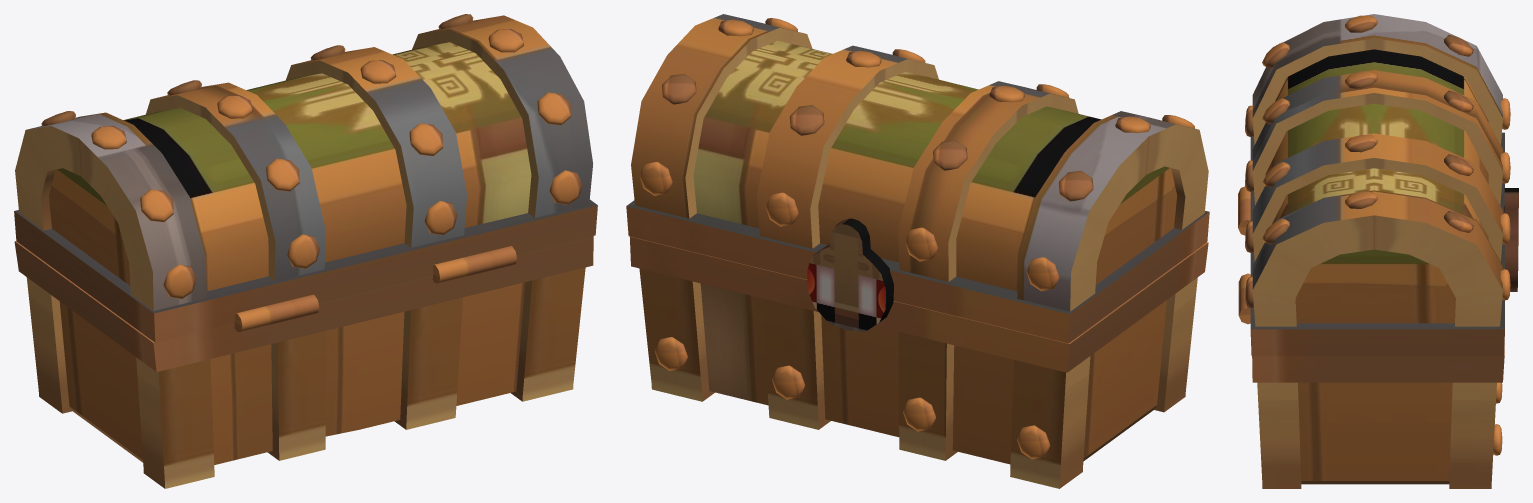
Rendered from NPC_Oldbox_001.glb.
The picture shows the model from 3 angles, left to right: view 1: azimuth 30°, elevation 25°; view 2: azimuth 150°, elevation 25°; view 3: azimuth 270°, elevation 25°; orthographic projection. The views are drawn at different scales.
Parts seen in each view (by area): view 1: NPC_Oldbox_001_mesh; view 2: NPC_Oldbox_001_mesh; view 3: NPC_Oldbox_001_mesh.
Part boxes in pixels (x1=…): NPC_Oldbox_001_mesh: x1=14, y1=14, x2=597, y2=488; NPC_Oldbox_001_mesh: x1=626, y1=14, x2=1209, y2=488; NPC_Oldbox_001_mesh: x1=1238, y1=14, x2=1518, y2=488.
Bounding box in the file's own units: 2.49 × 1.66 × 1.46.
1 material, 1 textured.
